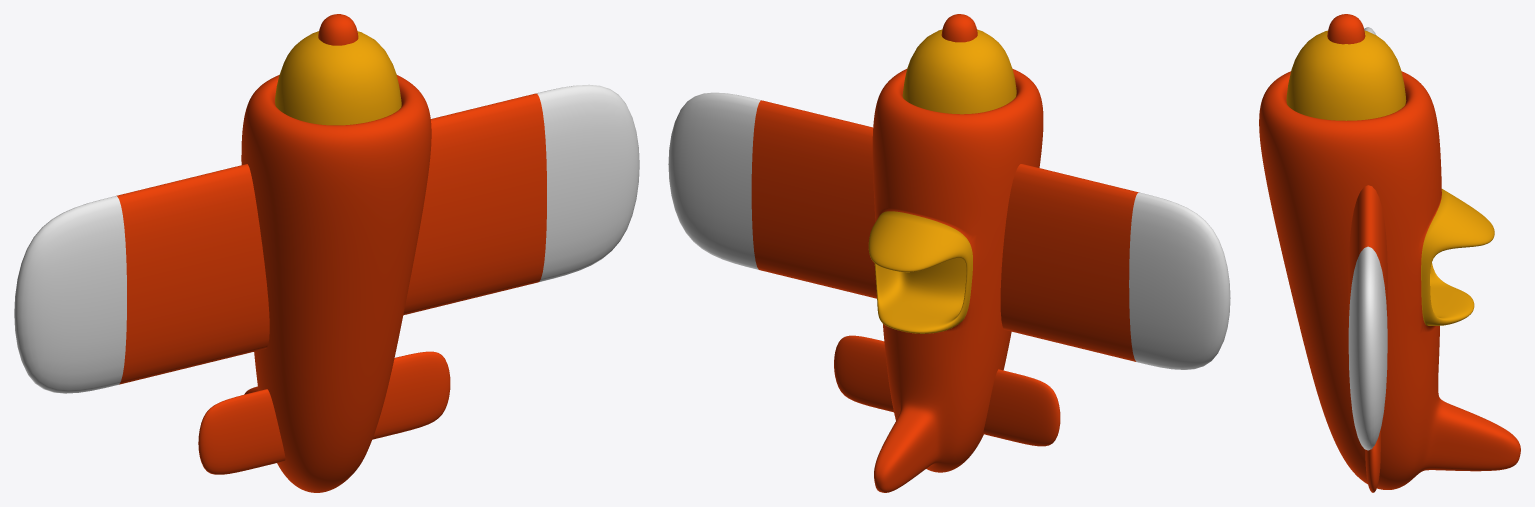
File: toy-plane-body.glb
The picture shows the model from 3 angles, left to right: view 1: azimuth 30°, elevation 25°; view 2: azimuth 150°, elevation 25°; view 3: azimuth 270°, elevation 25°; orthographic projection. The views are drawn at different scales.
Parts seen in each view (by area): view 1: 立方体.001, 立方体, 立方体.002, 立方体.003, 立方体.004; view 2: 立方体.001, 立方体, 立方体.002, 立方体.003, 立方体.004; view 3: 立方体, 立方体.001, 立方体.003, 立方体.004, 立方体.002.
Part boxes in pixels (x1,y1,x2,y2): 立方体.001: (14,84,639,393); 立方体: (241,75,431,492); 立方体.002: (198,351,450,474); 立方体.003: (275,31,401,125); 立方体.004: (318,14,358,45); 立方体.001: (668,92,1230,369); 立方体: (868,69,1043,492); 立方体.002: (834,335,1060,446); 立方体.003: (902,29,1016,114); 立方体.004: (941,14,977,42); 立方体: (1259,71,1520,489); 立方体.001: (1348,27,1387,450); 立方体.003: (1286,30,1406,120); 立方体.004: (1327,14,1365,44); 立方体.002: (1365,429,1380,492).
Bounding box in the file's own units: 6.34 × 4.76 × 2.39.
